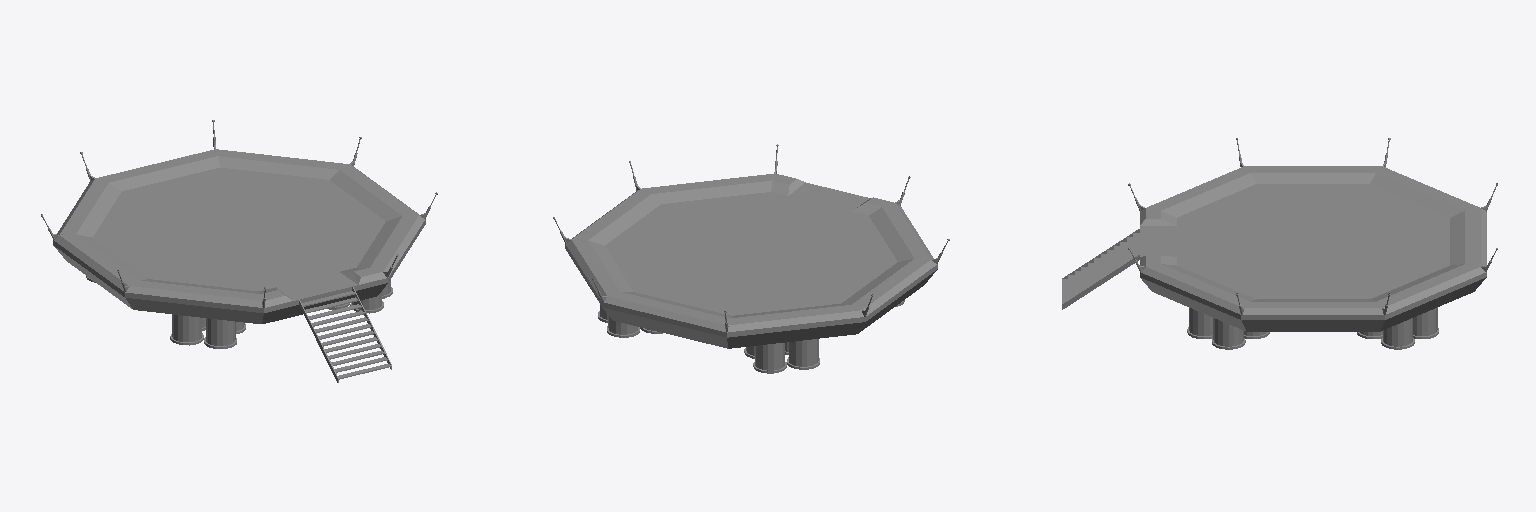
File: LandingPad.obj
The picture shows the model from 3 angles: view 1: azimuth 30°, elevation 25°; view 2: azimuth 150°, elevation 25°; view 3: azimuth 270°, elevation 25°; orthographic projection.
Parts seen in each view (by area): view 1: SM_LandingPad_E; view 2: SM_LandingPad_E; view 3: SM_LandingPad_E.
Part boxes in pixels (x1,y1,x2,y2): SM_LandingPad_E: (41,120,437,382); SM_LandingPad_E: (553,144,949,373); SM_LandingPad_E: (1062,138,1497,349).
Size of the model in its own units: 603 by 145 by 711.